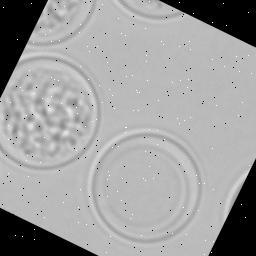picoshell: (86, 127, 203, 244), (0, 49, 101, 171), (25, 0, 97, 47), (112, 0, 186, 22), (221, 167, 249, 223)
